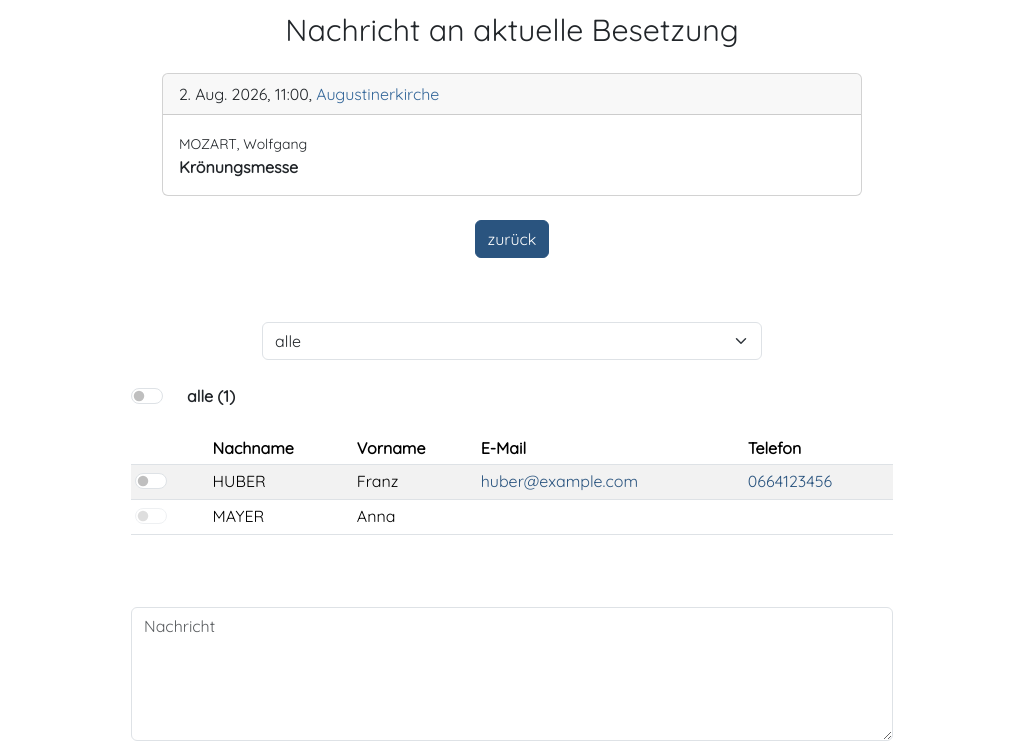
Test case: MessageToCastView › the "alle (N)" switch selects every recipient with an email, counted by eligibility not total headcount
Click the switch with id "message-to-cast-check-all" at (147, 396), box [131,388,163,404]
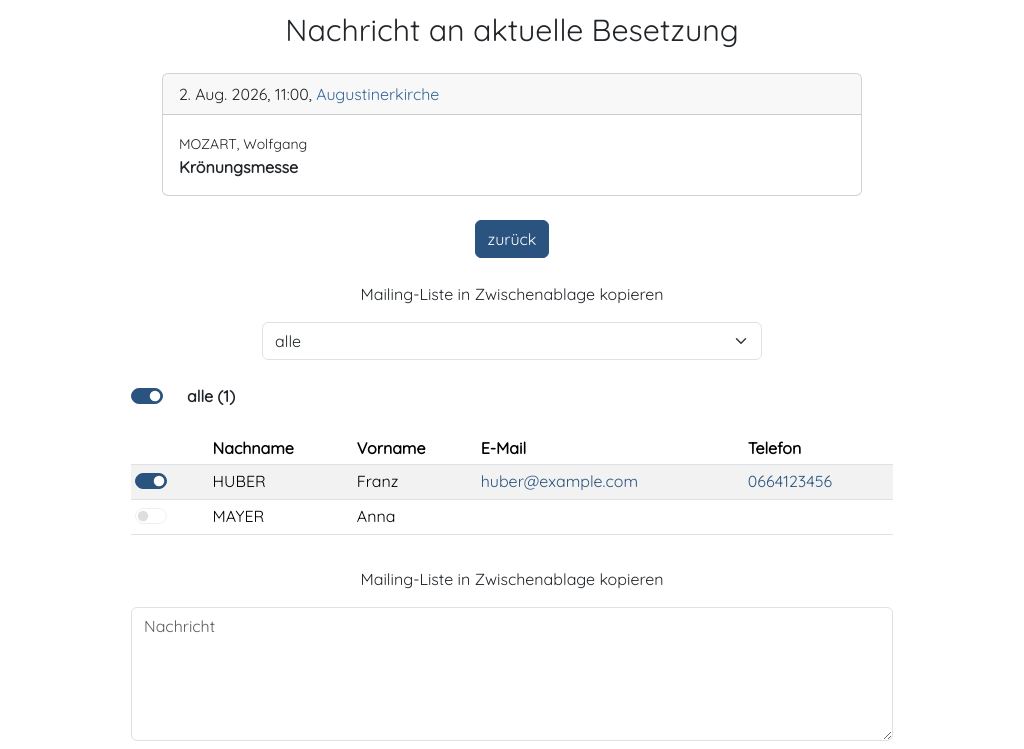
Check: the switch in the row of "Franz" is checked, box [135,472,167,488]
